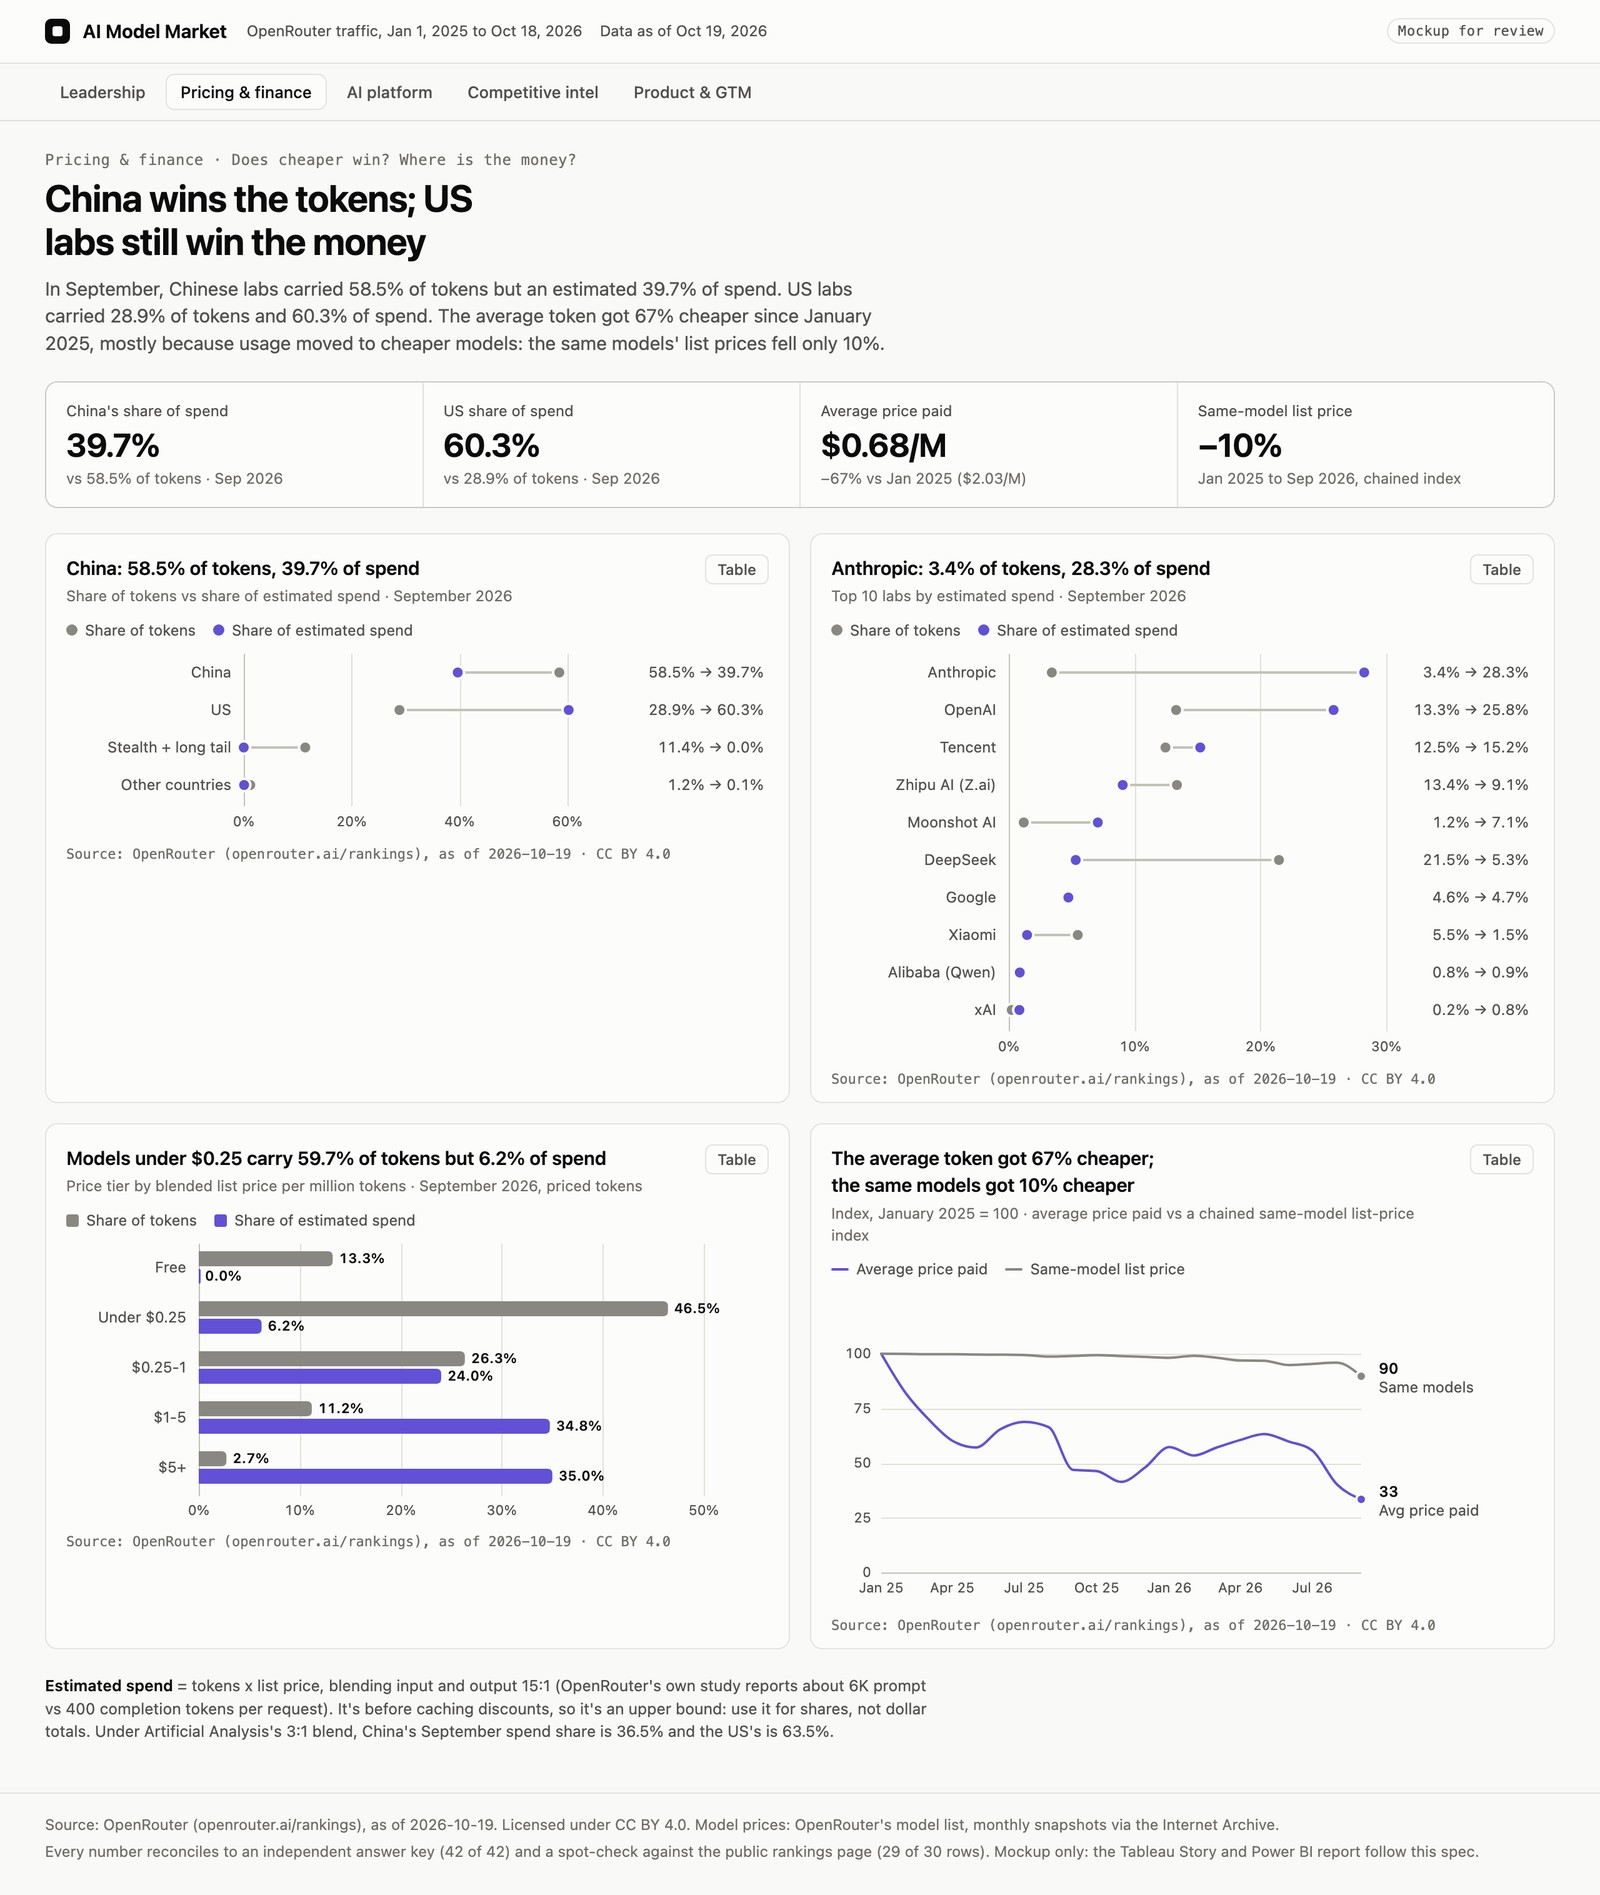

Layout of this report page (visuals, bound fields, positions):
{"tool":"tableau","page":{"name":"2 · Pricing & finance","canvas":[1400,950],"ordinal":1},"visuals":[{"type":"text","box":[0,0,1400,123.5]},{"type":"text","box":[0,123.5,350,104.5]},{"type":"text","box":[350,123.5,350,104.5]},{"type":"text","box":[700,123.5,350,104.5]},{"type":"text","box":[1050,123.5,350,104.5]},{"type":"worksheet","title":"Groups: tokens vs spend","mark":"Circle","rows":["Group"],"cols":["Share"],"box":[0,228,700,323]},{"type":"worksheet","title":"Labs: tokens vs spend","mark":"Circle","rows":["Lab"],"cols":["Share"],"box":[700,228,700,323]},{"type":"worksheet","title":"Price tiers","mark":"Bar","rows":["Tier","Measure"],"cols":["Share"],"box":[0,551,700,323]},{"type":"worksheet","title":"Price index","mark":"Line","rows":["Index (Jan 2025 = 100)"],"cols":["Month"],"box":[700,551,700,323]},{"type":"text","box":[0,874,1400,76]}]}

Visuals, with their boxes on the page's 1400x950 design canvas (x1, y1, x2, y2). These are canvas units, not pixel positions in the 1600x1895 screenshot, which may show the page scaled, cropped or inside an application window:
text: left=0, top=0, right=1400, bottom=124
text: left=0, top=124, right=350, bottom=228
text: left=350, top=124, right=700, bottom=228
text: left=700, top=124, right=1050, bottom=228
text: left=1050, top=124, right=1400, bottom=228
"Groups: tokens vs spend" worksheet (Circle marks): left=0, top=228, right=700, bottom=551
"Labs: tokens vs spend" worksheet (Circle marks): left=700, top=228, right=1400, bottom=551
"Price tiers" worksheet (Bar marks): left=0, top=551, right=700, bottom=874
"Price index" worksheet (Line marks): left=700, top=551, right=1400, bottom=874
text: left=0, top=874, right=1400, bottom=950
